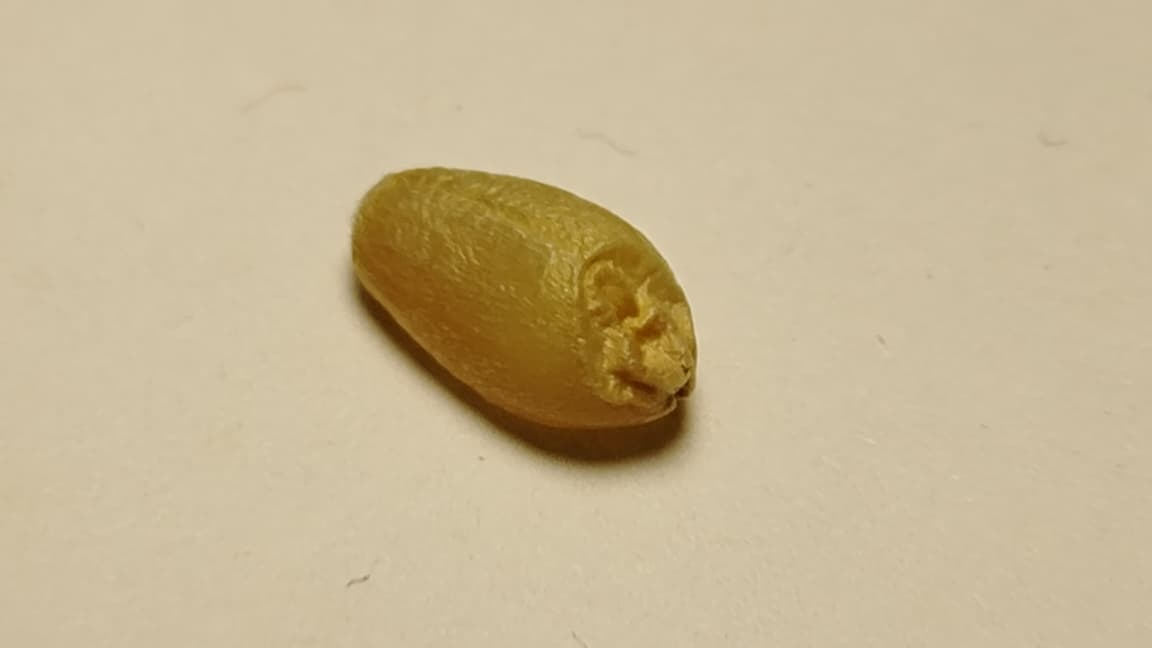healthy: (352, 166, 696, 427)
